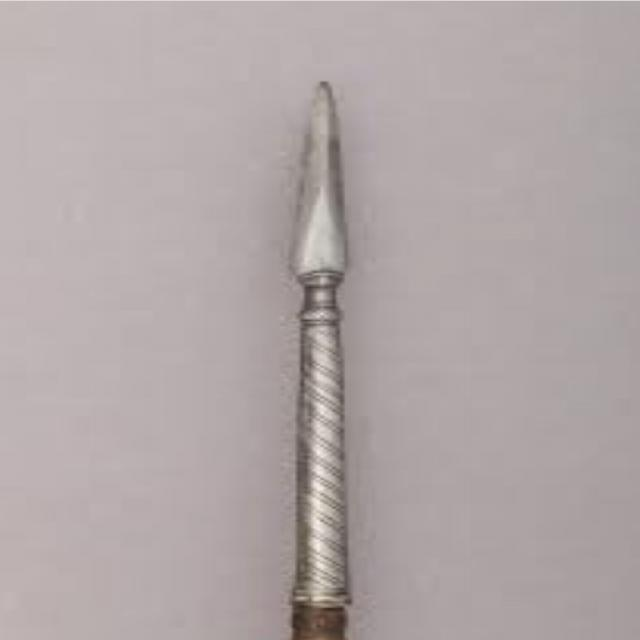spear: (254, 64, 398, 634)
